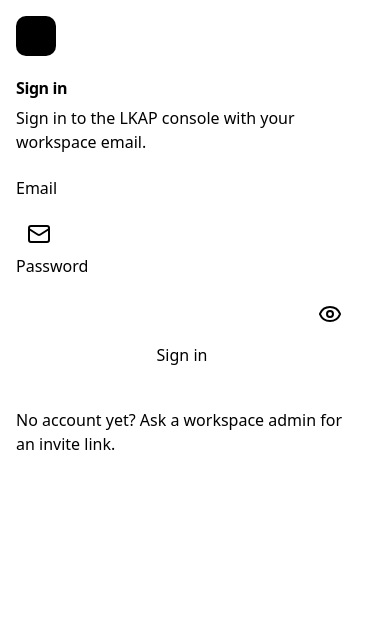
it: LoginForm › says the sign-in service isn't responding on a server error
Type "owner@local" into the field labelled "Email".
click(182, 222); type("owner@local")  # box [16,204,348,240]
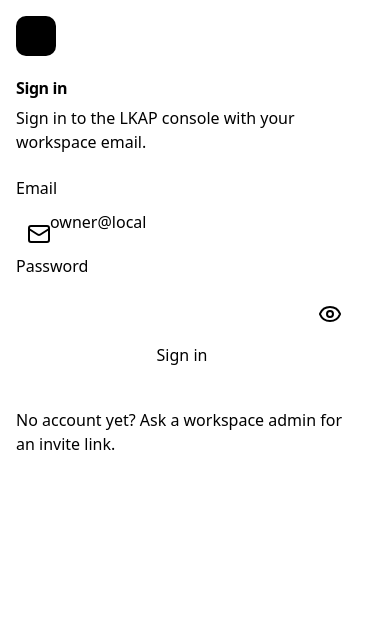
Type "hunter22" into the password field labelled "Password".
click(182, 300); type("hunter22")  # box [16,282,348,318]
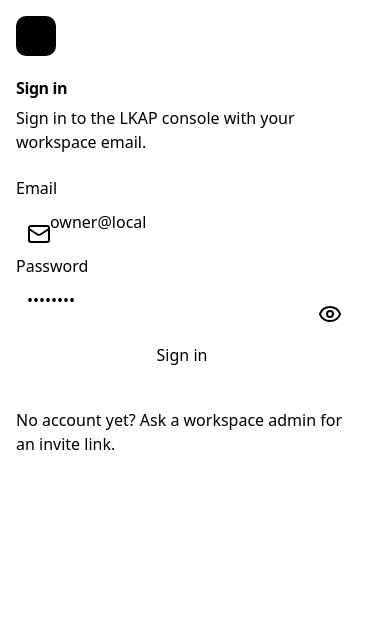
Click the button "Sign in".
click(182, 355)  # box [16,338,348,372]
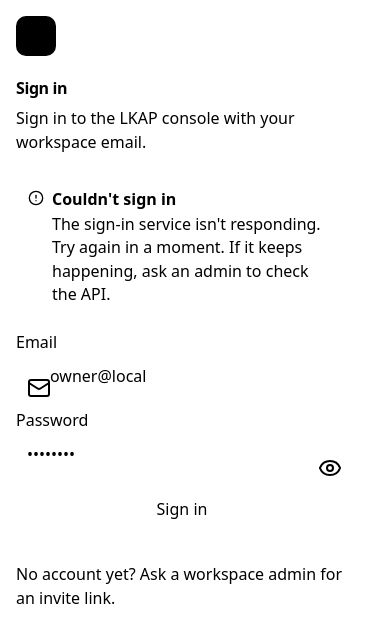
Now the message shows "The sign-in service isn't responding.", box [52,213,321,305]
